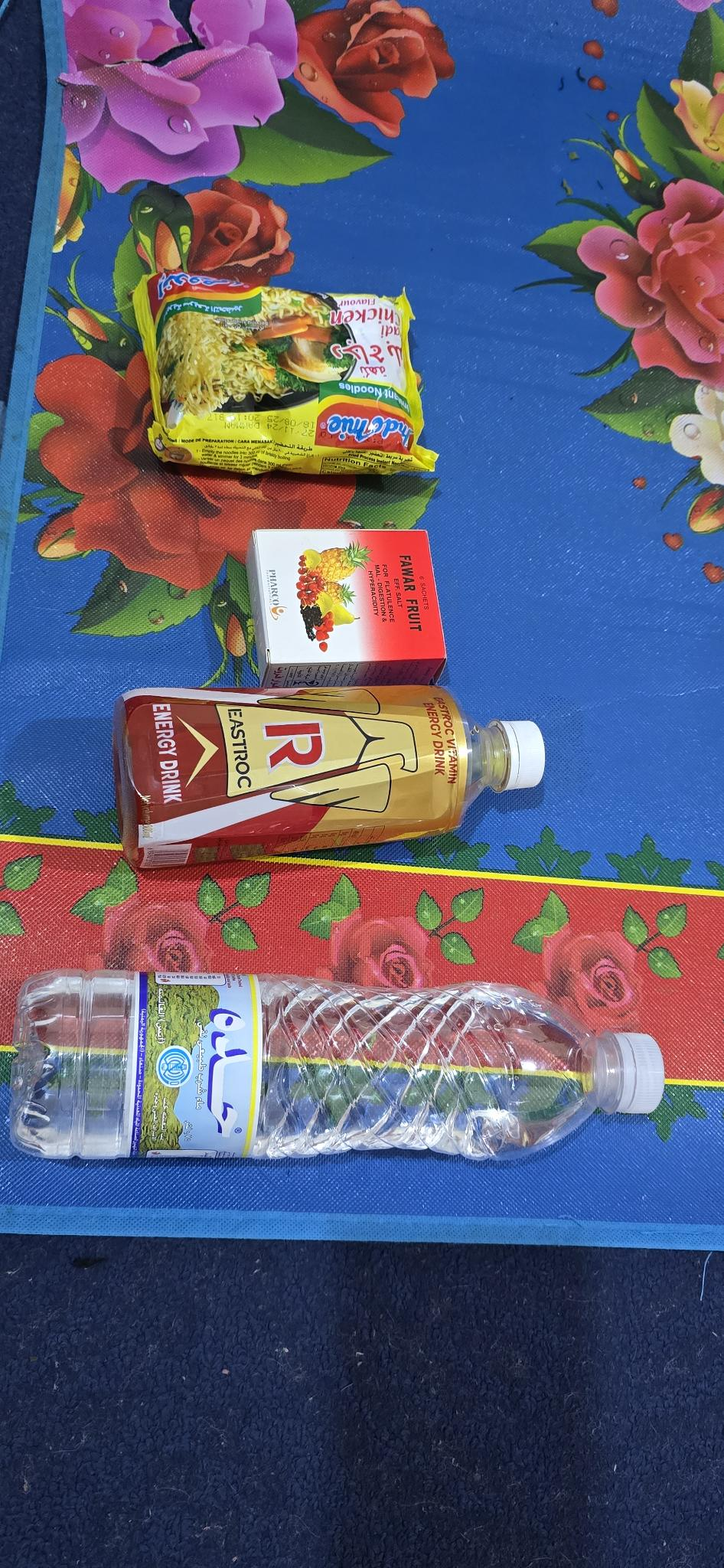Eastroc: (96, 680, 549, 876)
Fawar: (223, 513, 470, 692)
Noodles: (118, 271, 442, 497)
Water: (8, 985, 674, 1180)
